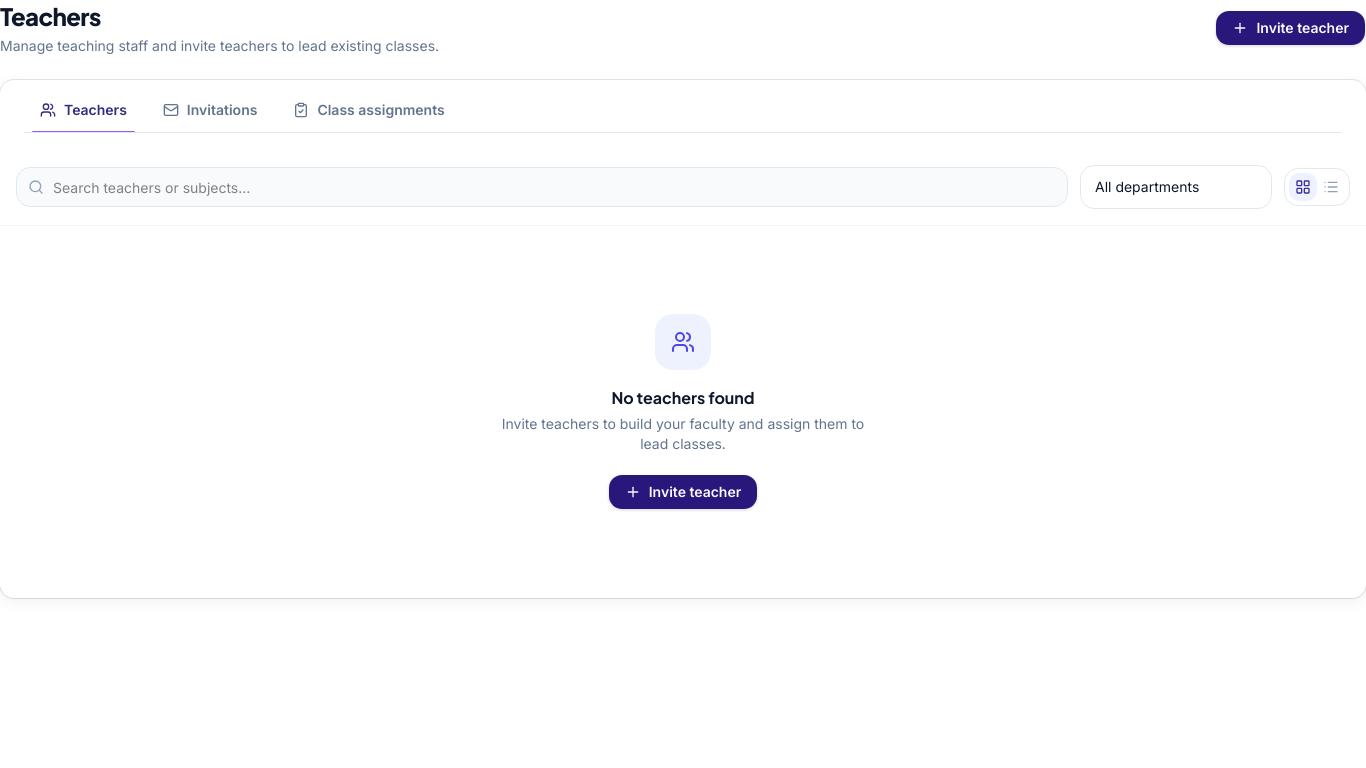
Test: TeachersView › opens wizard when header "Invite teacher" button is clicked
Step 1. Click the 1st button "Invite teacher" → point(1291, 28), box top-left (1216, 10), bottom-right (1365, 46)
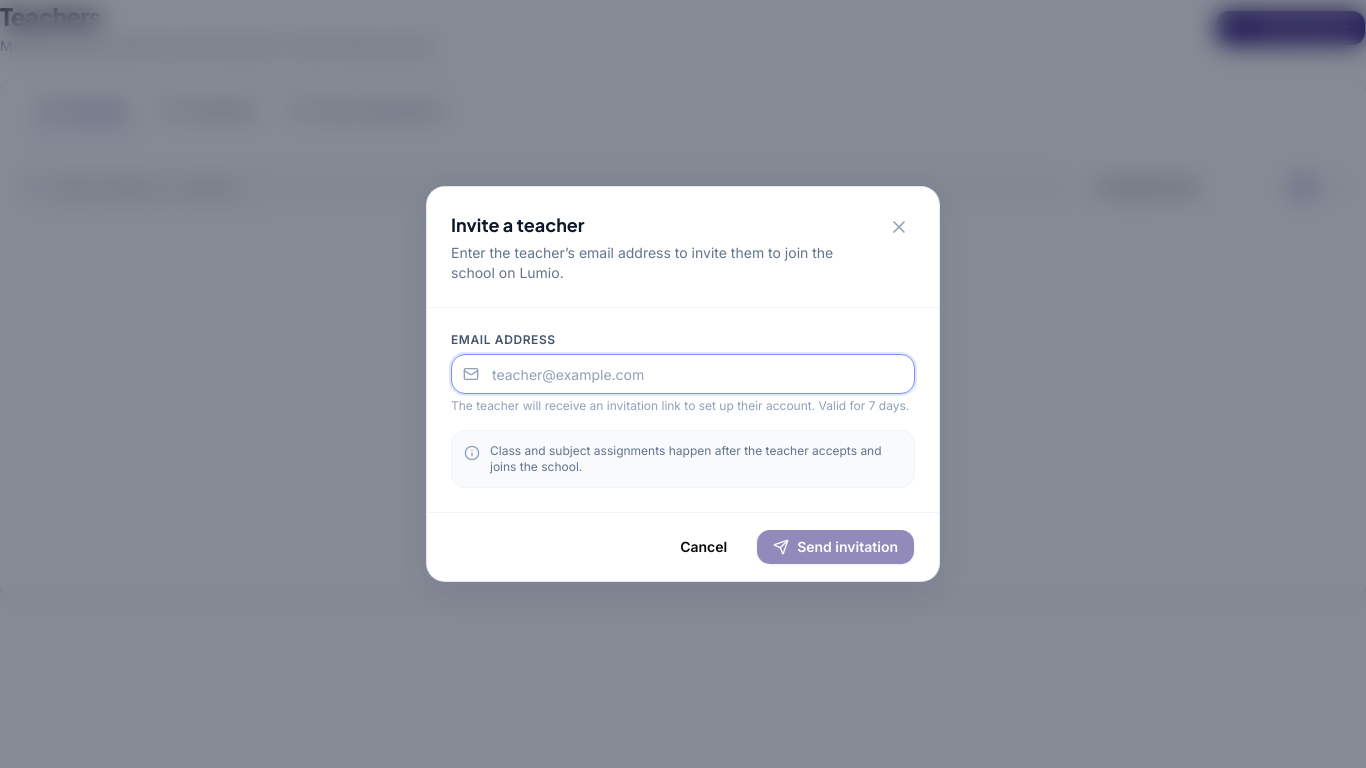
Expected: the dialog is shown, top-left (427, 187), bottom-right (939, 581)
Expected: the heading "Invite a teacher" is shown, top-left (451, 213), bottom-right (585, 236)
